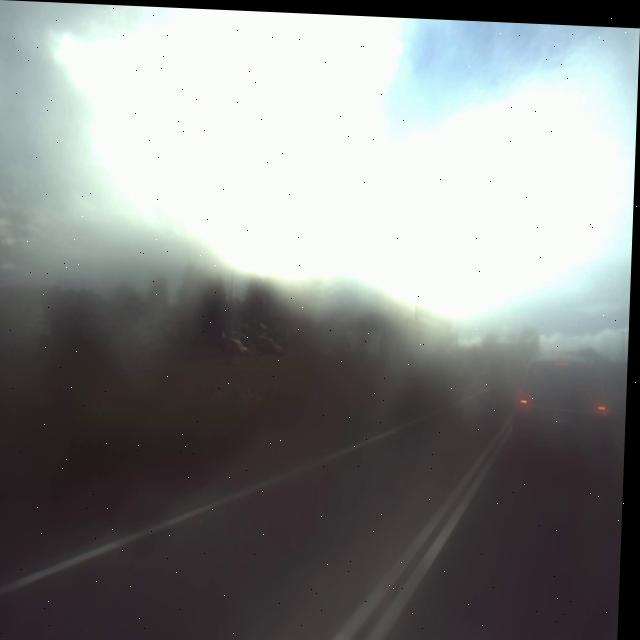car: (510, 330, 619, 477)
